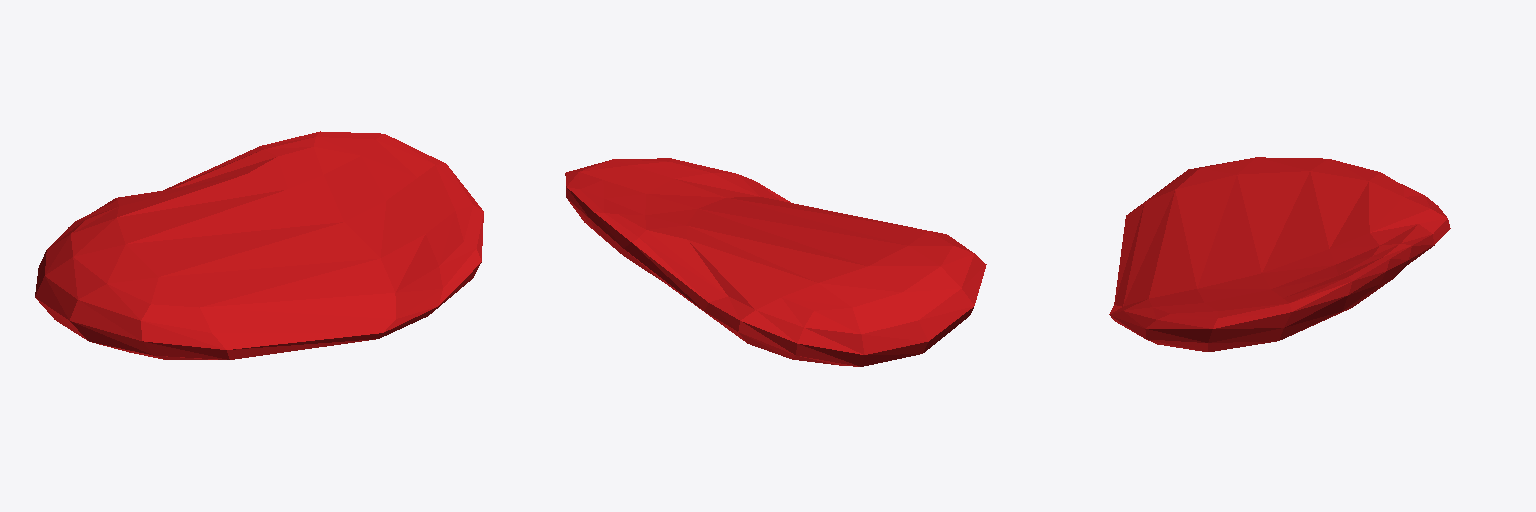
File: protein.obj
3 views of the same model, side by side, from view 1: azimuth 30°, elevation 25°; view 2: azimuth 150°, elevation 25°; view 3: azimuth 270°, elevation 25° (orthographic).
Parts seen in each view (by area): view 1: Cube; view 2: Cube; view 3: Cube.
Boxes of the visible parts, <box> form: Cube: <box>35,131,483,359</box>; Cube: <box>565,158,986,366</box>; Cube: <box>1109,157,1450,351</box>.
Bounding box in the file's own units: 1.83 × 0.4919 × 1.37.